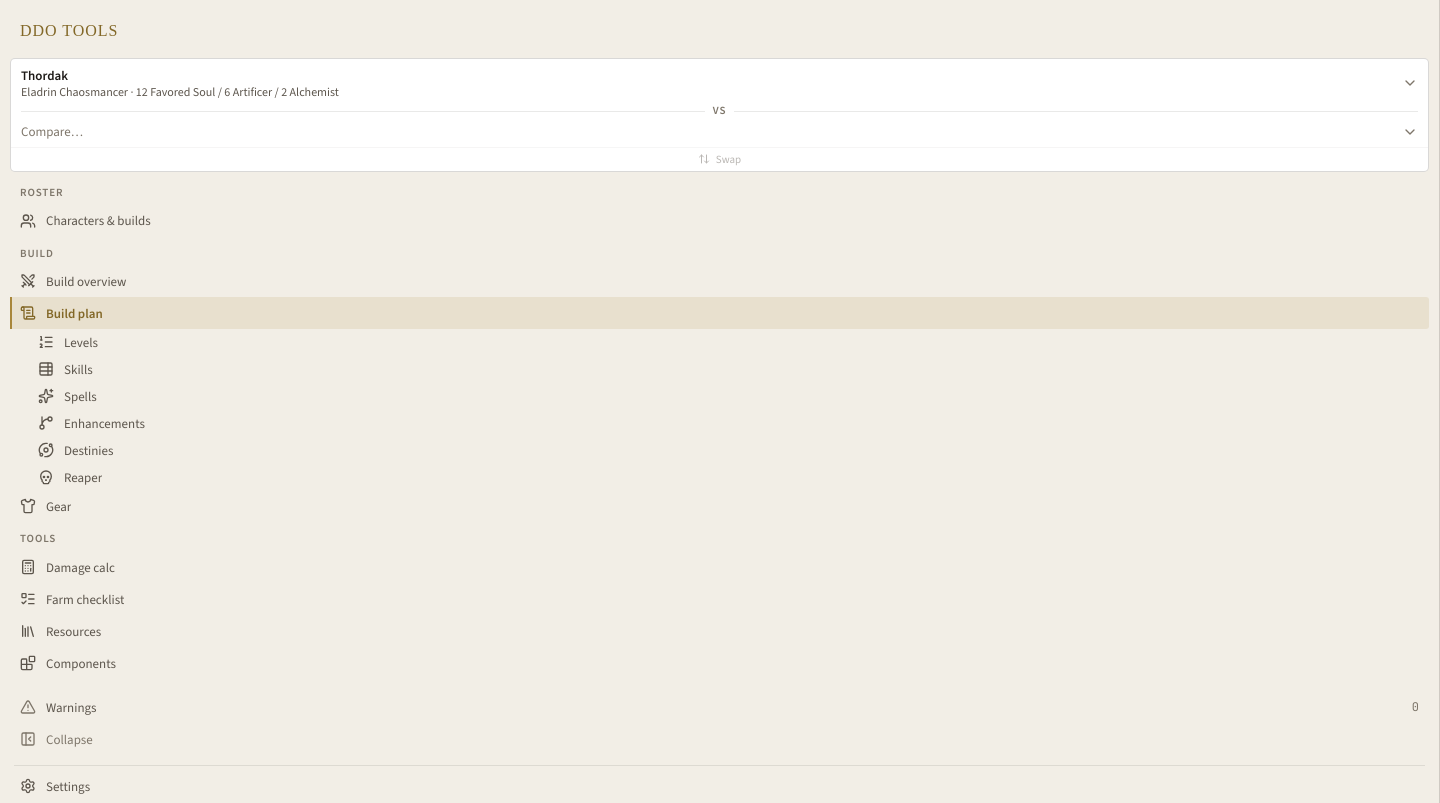
Test case: AppNavBar › opens the warnings popover with the empty-state sentence when there are no warnings
Click the button "Warnings 0": (71, 707) top-left (10, 691), bottom-right (1429, 723)
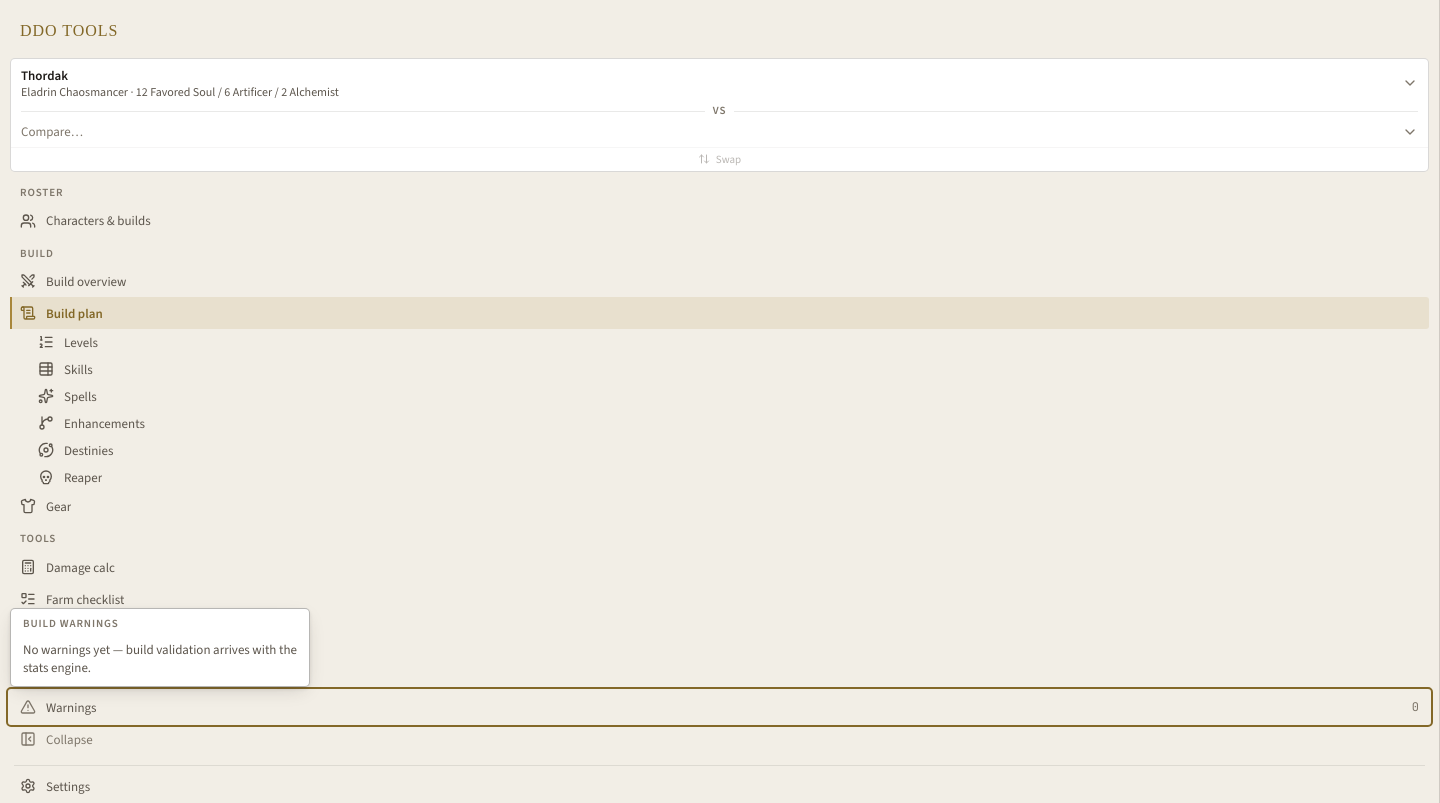
Check: the element "Build warnings" shows "No warnings yet — build validation arrives with the stats engine.", box top-left (23, 641), bottom-right (297, 676)
